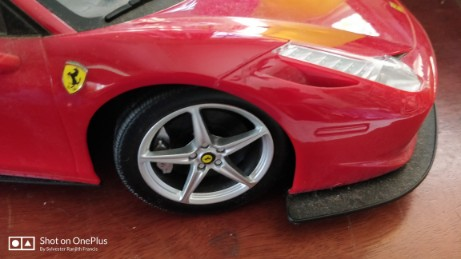unaligned_wheel: (103, 80, 291, 221)
